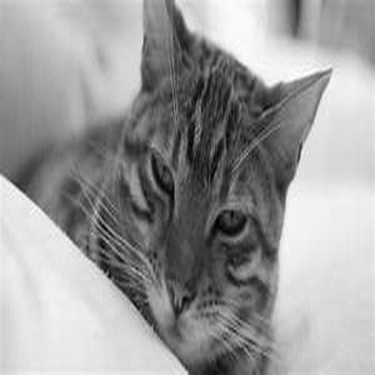cat: (8, 4, 333, 366)
